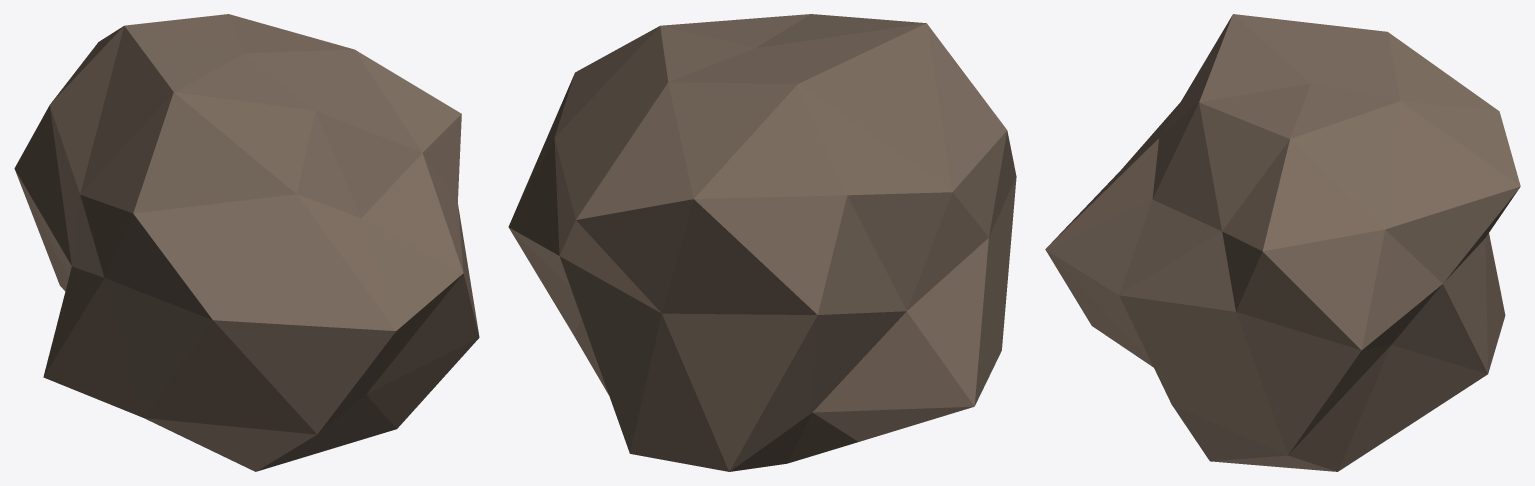
Rendered from Asteroid_3.fbx.
The picture shows the model from 3 angles, left to right: view 1: azimuth 30°, elevation 25°; view 2: azimuth 150°, elevation 25°; view 3: azimuth 270°, elevation 25°; orthographic projection. The views are drawn at different scales.
Visible parts, largest first — view 1: Icosphere.026; view 2: Icosphere.026; view 3: Icosphere.026.
Part boxes in pixels (x1,y1,x2,y2): Icosphere.026: (14,14,479,471); Icosphere.026: (508,14,1016,471); Icosphere.026: (1045,14,1520,471).
Bounding box in the file's own units: 369 × 348 × 411.
